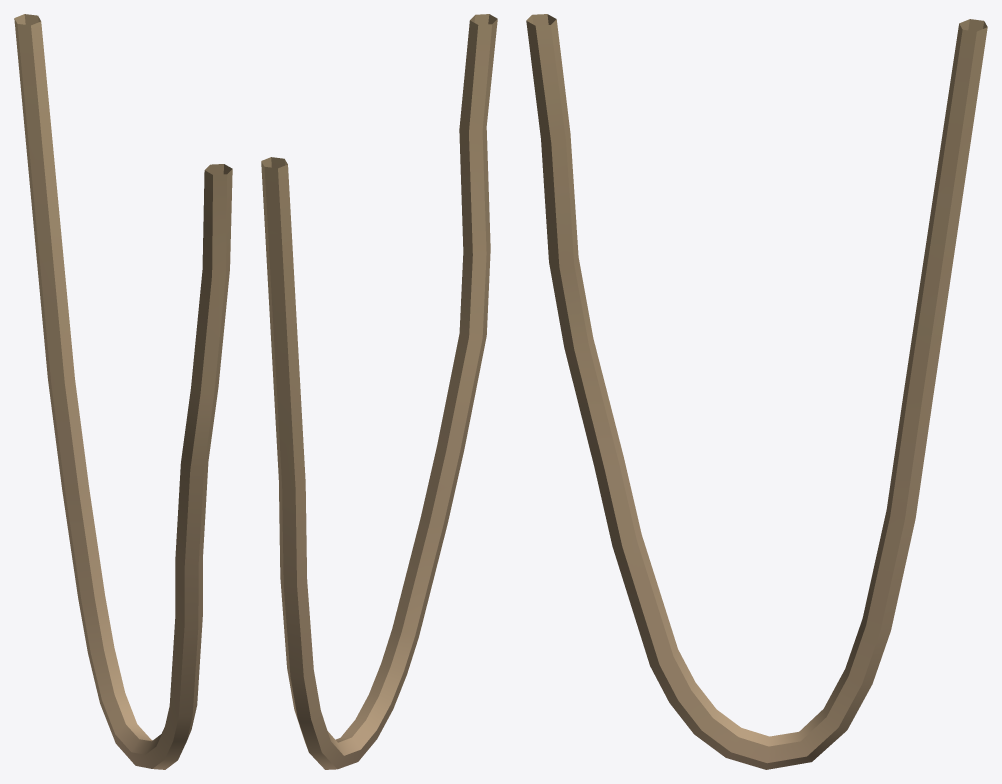
Rendered from Rope_1_B.glb.
3 renders of one model, left to right at view 1: azimuth 30°, elevation 25°; view 2: azimuth 150°, elevation 25°; view 3: azimuth 270°, elevation 25°, orthographic. The views are drawn at different scales.
Parts seen in each view (by area): view 1: Rope_1_B; view 2: Rope_1_B; view 3: Rope_1_B.
Part boxes in pixels (x1,y1,x2,y2): Rope_1_B: (14,14,232,769); Rope_1_B: (261,14,497,769); Rope_1_B: (526,14,987,769).
Bounding box in the file's own units: 0.1655 × 1.77 × 1.01.
Materials: 1 (1 with a texture image).
